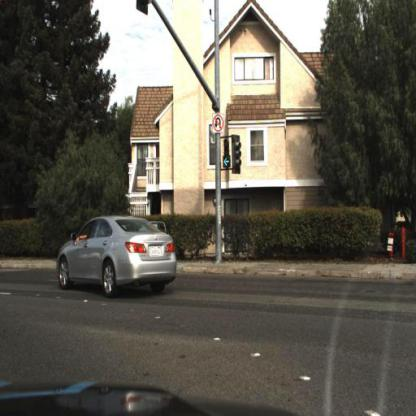car: (54, 215, 184, 299)
trafficLight-GreenLeft: (223, 137, 233, 170), (222, 152, 233, 174)
